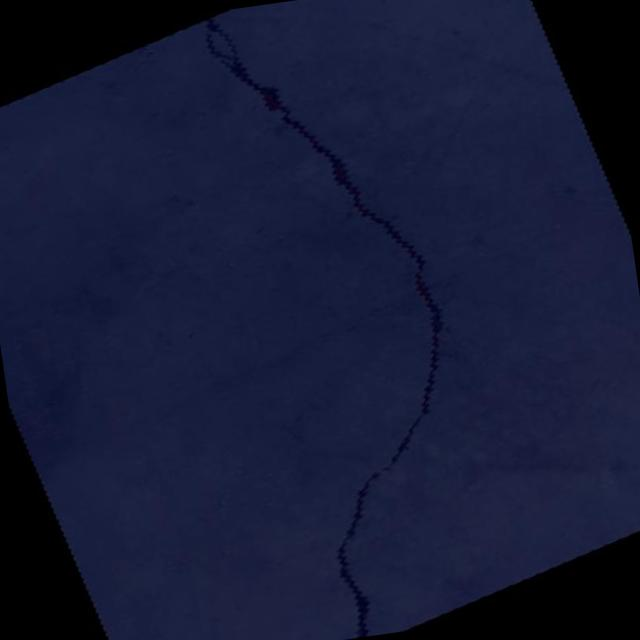crack: (101, 0, 561, 640)
